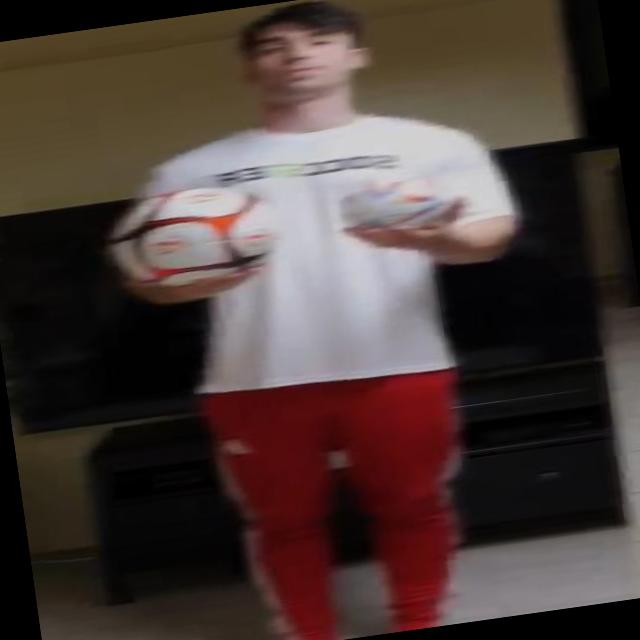Soccer Ball: (101, 176, 294, 295), (338, 170, 448, 243)
